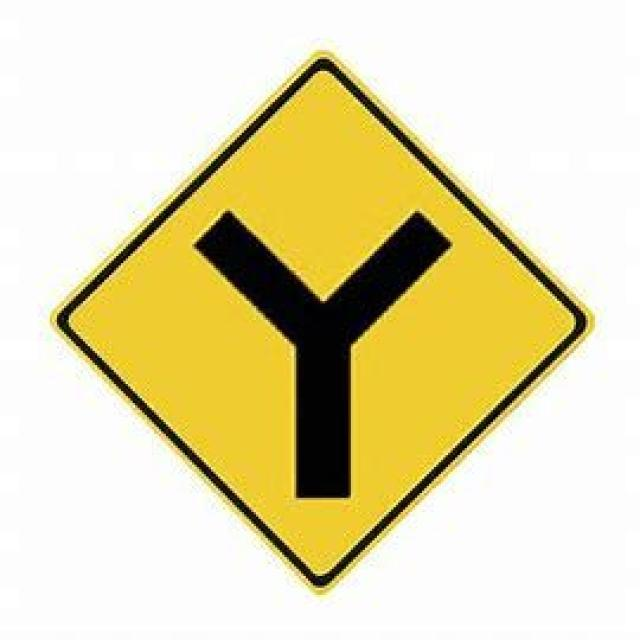y intersection: (48, 51, 598, 598)
